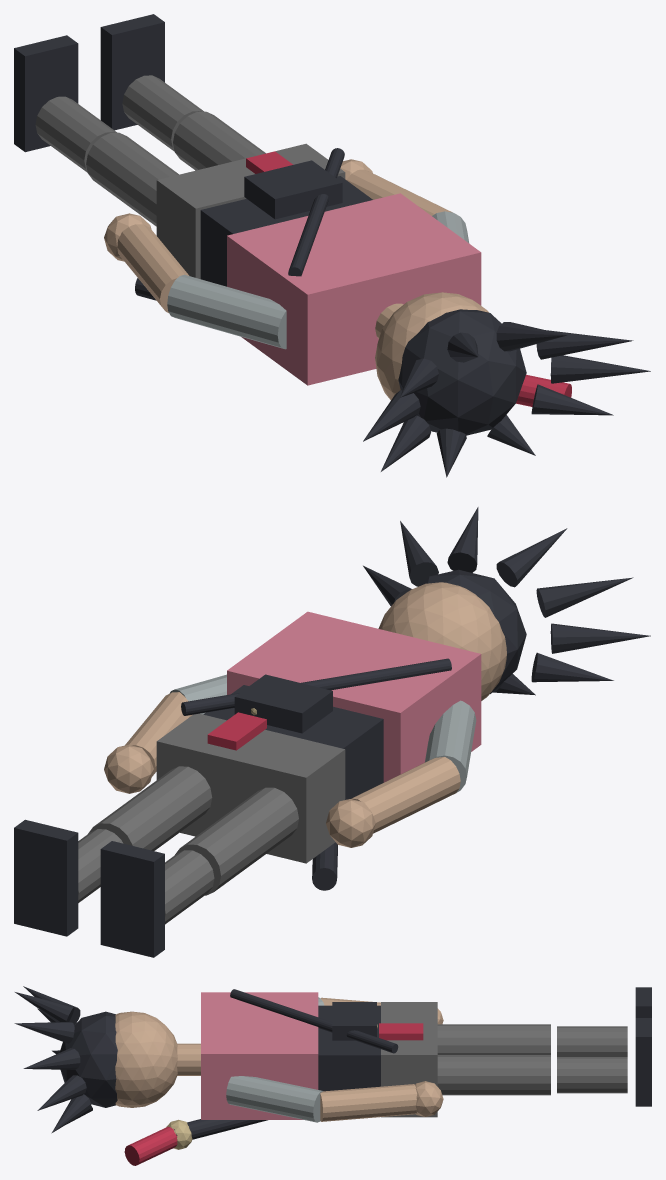
File: 01_kaisei_wanderer.glb
3 views of the same model, one above another, from view 1: azimuth 30°, elevation 25°; view 2: azimuth 150°, elevation 25°; view 3: azimuth 270°, elevation 25° (orthographic). The views are drawn at different scales.
Visible parts, largest first — view 1: kaisei_pink_jacket, kaisei_hair_cap, kaisei_hips, kaisei_upper_arm_-1, kaisei_shoe_-1, kaisei_shoe_1, kaisei_upper_leg_-1, kaisei_torso, kaisei_crossbody_bag, kaisei_head, kaisei_upper_leg_1, kaisei_lower_leg_-1 (+17 smaller); view 2: kaisei_pink_jacket, kaisei_hips, kaisei_head, kaisei_shoe_1, kaisei_shoe_-1, kaisei_upper_leg_-1, kaisei_upper_leg_1, kaisei_torso, kaisei_forearm_-1, kaisei_crossbody_bag, kaisei_hair_cap, kaisei_crossbody_strap (+16 smaller); view 3: kaisei_pink_jacket, kaisei_head, kaisei_upper_leg_1, kaisei_hips, kaisei_hair_cap, kaisei_upper_leg_-1, kaisei_torso, kaisei_upper_arm_1, kaisei_forearm_1, kaisei_lower_leg_1, kaisei_lower_leg_-1, kaisei_crossbody_strap (+15 smaller).
Part boxes in pixels (x1,y1,x2,y2): kaisei_pink_jacket: (227,193,481,385); kaisei_hair_cap: (398,309,526,435); kaisei_hips: (156,143,345,278); kaisei_upper_arm_-1: (167,274,286,349); kaisei_shoe_-1: (14,35,78,152); kaisei_shoe_1: (100,14,164,130); kaisei_upper_leg_-1: (86,132,178,226); kaisei_torso: (200,176,372,286); kaisei_crossbody_bag: (244,160,342,219); kaisei_head: (375,292,488,399); kaisei_upper_leg_1: (173,111,265,170); kaisei_lower_leg_-1: (35,96,116,172); kaisei_pink_jacket: (227,611,481,782); kaisei_hips: (156,713,345,863); kaisei_head: (378,582,506,700); kaisei_shoe_1: (14,819,78,936); kaisei_shoe_-1: (100,841,164,957); kaisei_upper_leg_-1: (175,787,298,895); kaisei_upper_leg_1: (88,766,212,850); kaisei_torso: (203,685,383,799); kaisei_forearm_-1: (351,757,460,833); kaisei_crossbody_bag: (234,674,332,733); kaisei_hair_cap: (419,569,526,693); kaisei_crossbody_strap: (181,658,451,715); kaisei_pink_jacket: (201,992,318,1119); kaisei_head: (115,1011,177,1107); kaisei_upper_leg_1: (437,1055,550,1095); kaisei_hips: (381,1002,437,1117); kaisei_hair_cap: (59,1011,117,1107); kaisei_upper_leg_-1: (437,1024,550,1054); kaisei_torso: (318,1005,380,1091); kaisei_upper_arm_1: (226,1076,323,1122); kaisei_forearm_1: (320,1084,416,1121); kaisei_lower_leg_1: (557,1057,627,1093); kaisei_lower_leg_-1: (557,1026,627,1056); kaisei_crossbody_strap: (230,989,398,1053).
Bounding box in the file's own units: 1.25 × 0.6203 × 3.15.
